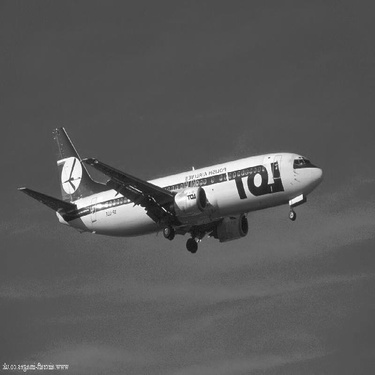airplane: (21, 113, 331, 265)
